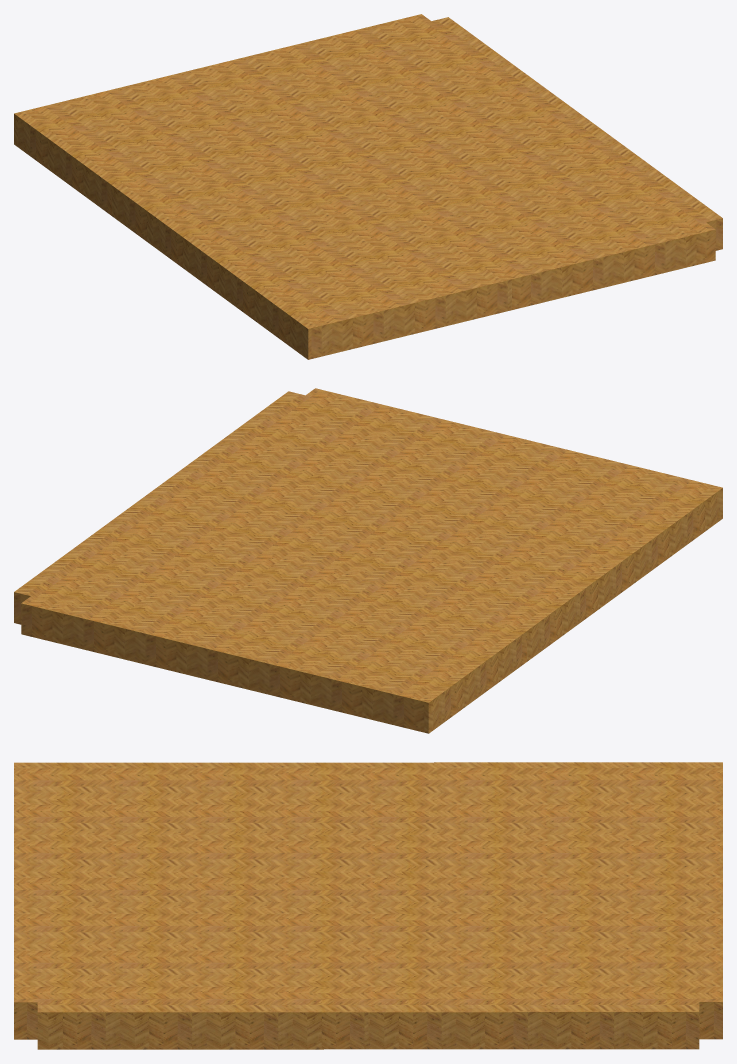
Rendered from Floor_27b335db.obj.
3 views of the same model, one above another, from view 1: azimuth 30°, elevation 25°; view 2: azimuth 150°, elevation 25°; view 3: azimuth 270°, elevation 25° (orthographic). The views are drawn at different scales.
Visible parts, largest first — view 1: mesh_119cc80c; view 2: mesh_119cc80c; view 3: mesh_119cc80c.
Part boxes in pixels (x1=…): mesh_119cc80c: x1=14, y1=14, x2=722, y2=359; mesh_119cc80c: x1=14, y1=388, x2=722, y2=733; mesh_119cc80c: x1=14, y1=762, x2=722, y2=1049.
Bounding box in the file's own units: 6.85 × 0.4798 × 8.22.
